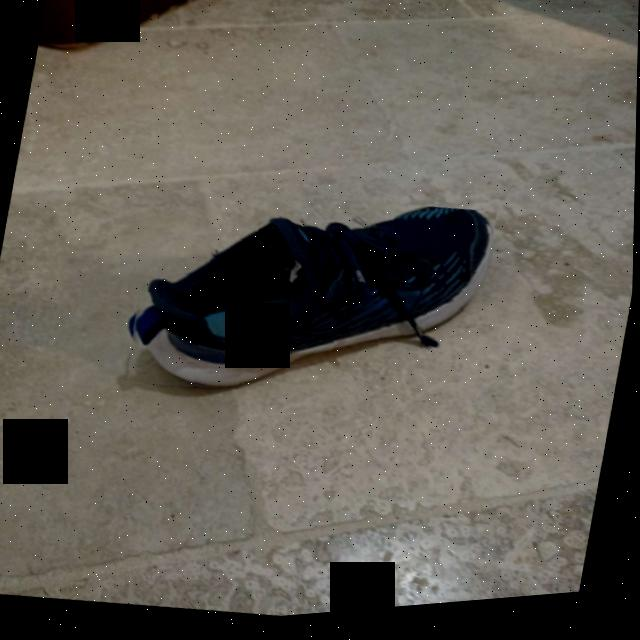shoe: (118, 166, 499, 439)
